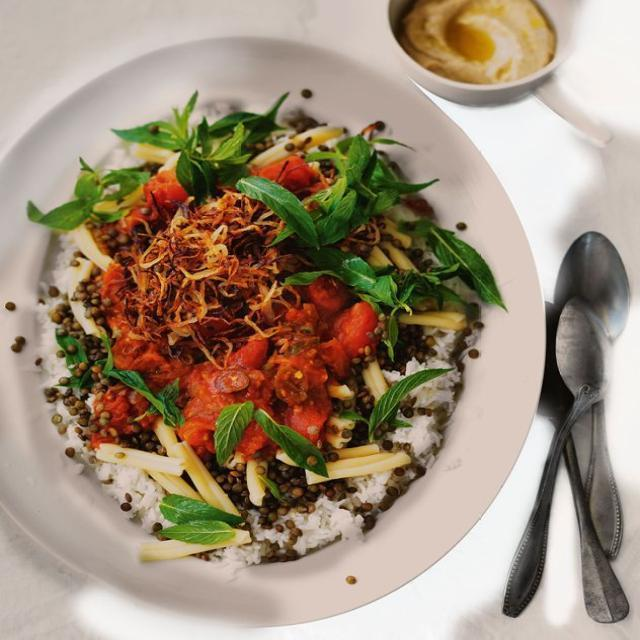kushari: (37, 140, 457, 562)
